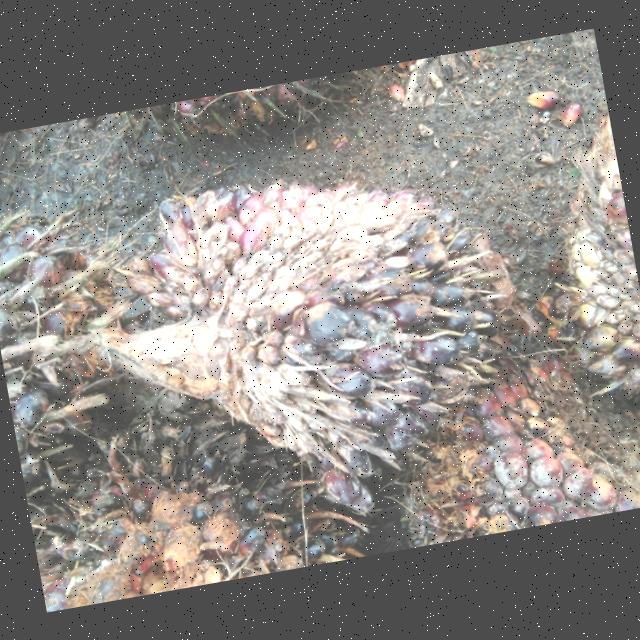Unripe: (105, 182, 513, 504), (30, 419, 341, 611), (406, 354, 640, 544), (0, 207, 126, 485), (541, 111, 640, 397)
